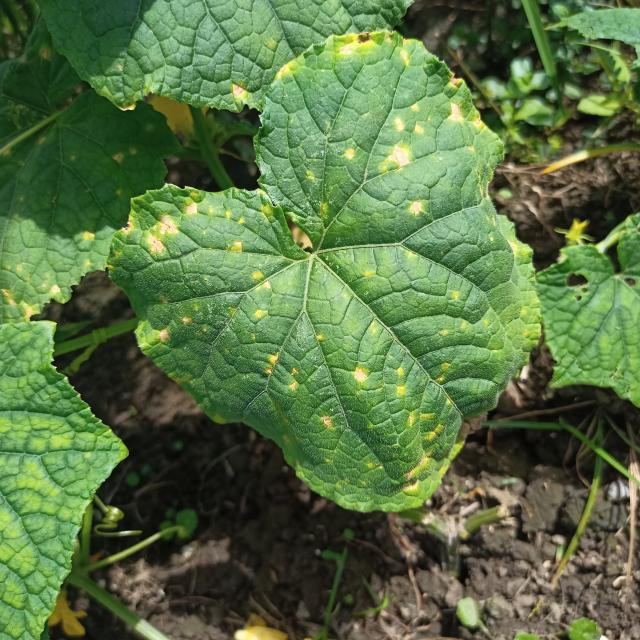disease_cucumber: (117, 34, 524, 500)
